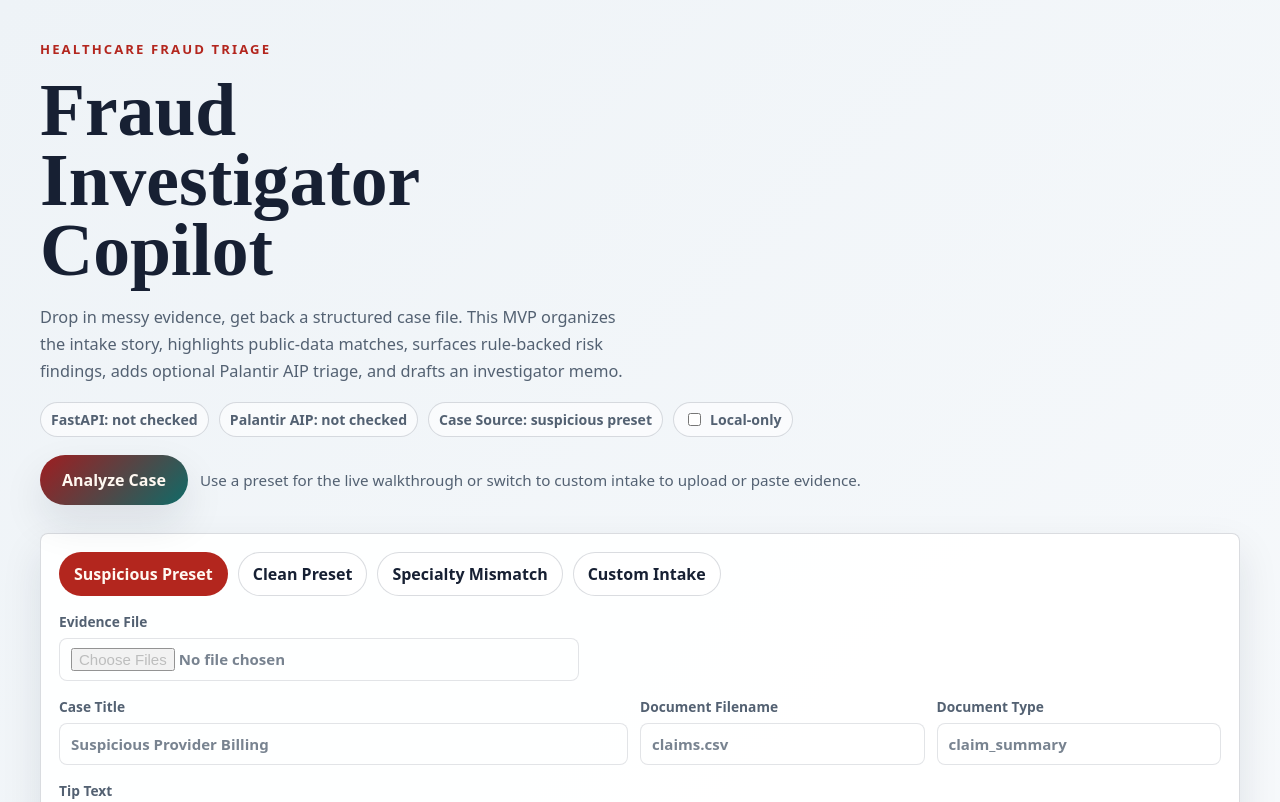
Scenario: HomePage › shows staged loading progress while analysis is running
What coordinates should you click on to do the following:
click the button "Analyze Case"
I would click on:
 (114, 480)
Its box is x1=40 y1=455 x2=188 y2=505.
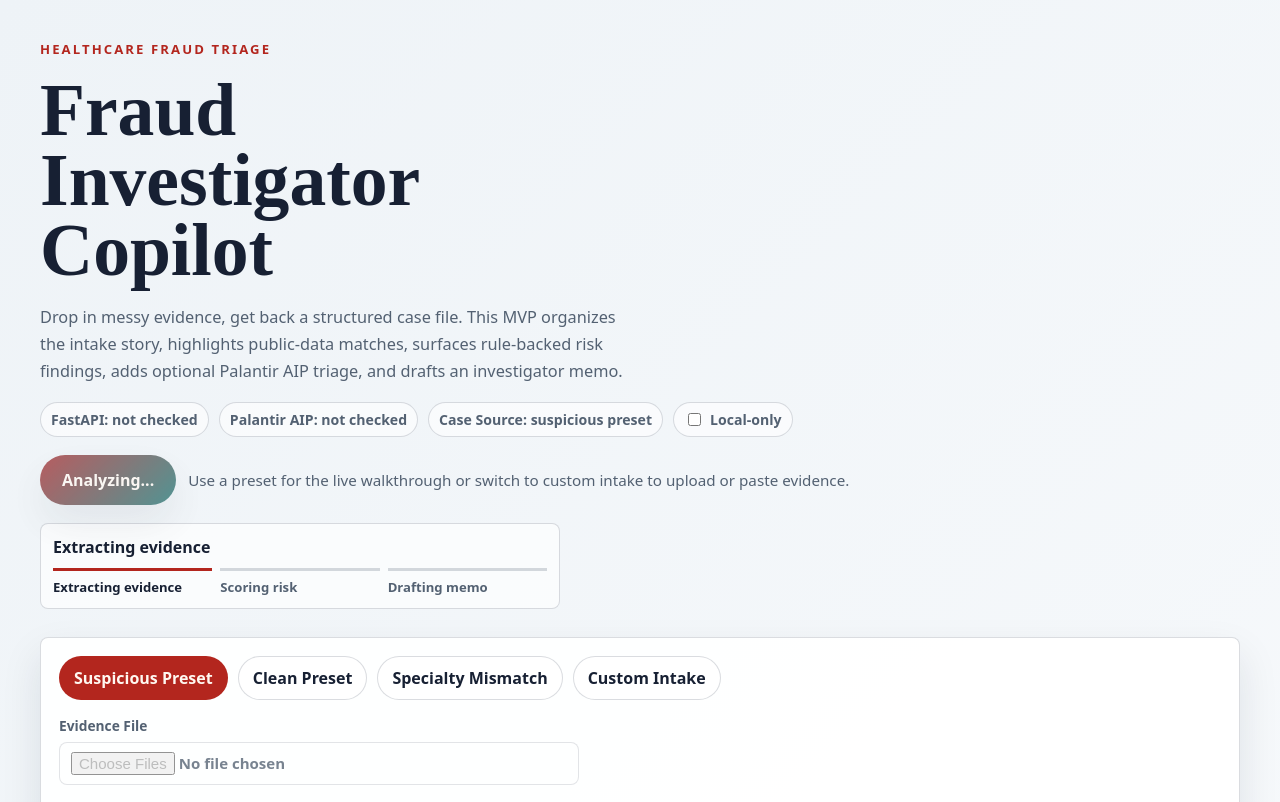
Expected: the message shows "Extracting evidence", x1=53 y1=536 x2=210 y2=558
Expected: the list item "Scoring risk" is shown, x1=220 y1=568 x2=380 y2=596
Expected: the list item "Drafting memo" is shown, x1=388 y1=568 x2=547 y2=596
